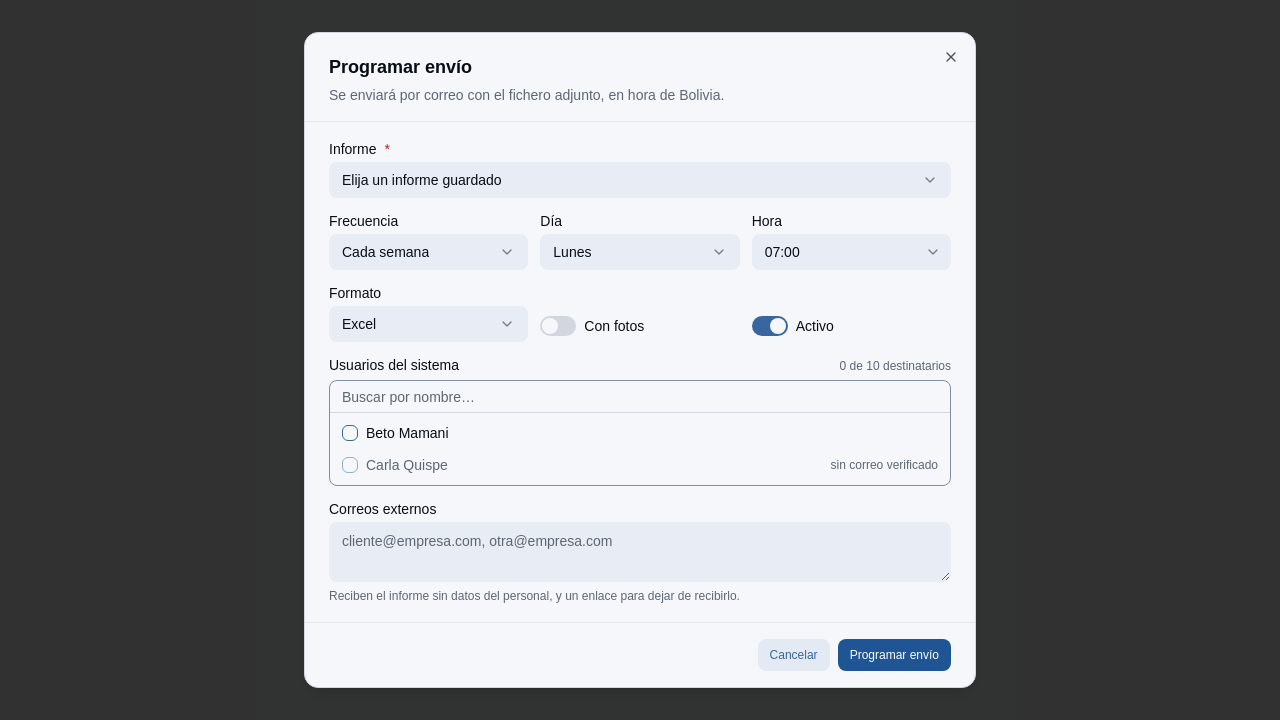
Test: the recipients › counts accounts and addresses together against the ceiling
The width and height of the screenshot is (1280, 720).
Click the checkbox named "Beto Mamani" next to "Beto".
click(350, 433)  # box [342,425,358,441]
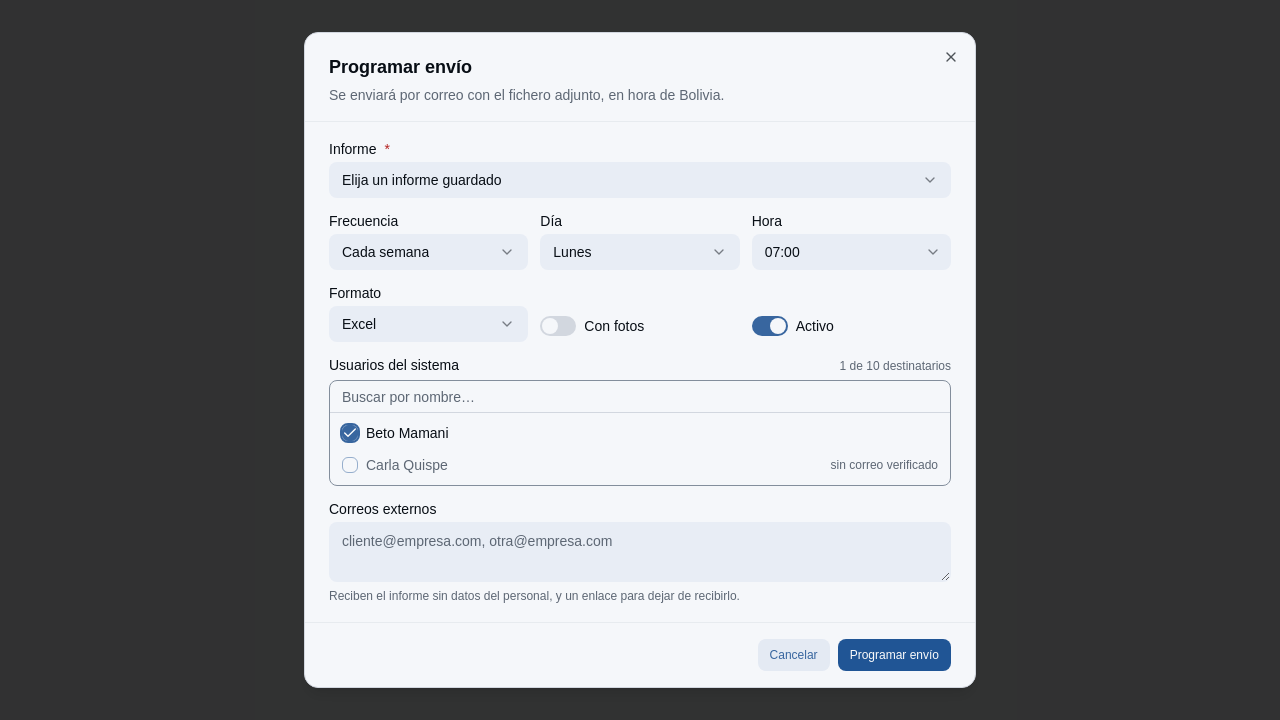
Type "a@b.com, c@d.com" into the text box labelled "Correos externos".
click(640, 552); type("a@b.com, c@d.com")  # box [329,522,951,582]
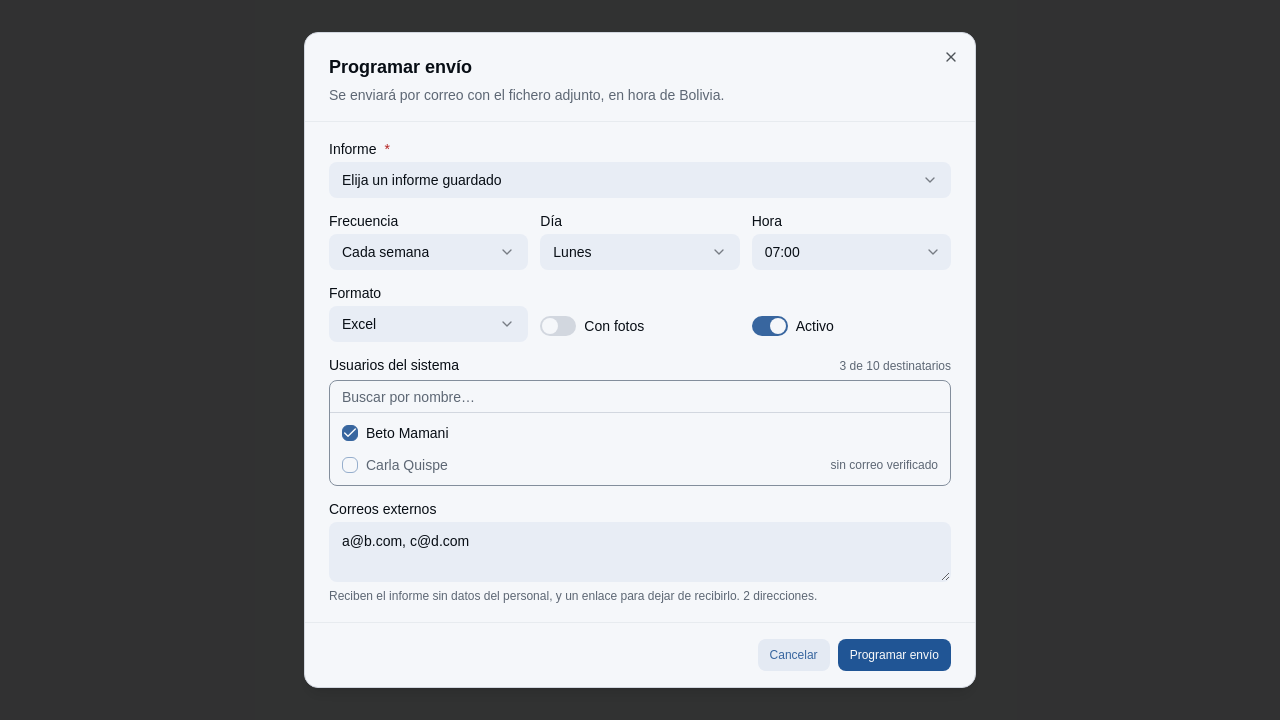
Expected: the text "3 de 10 destinatarios" is shown, [840,358,951,374]
